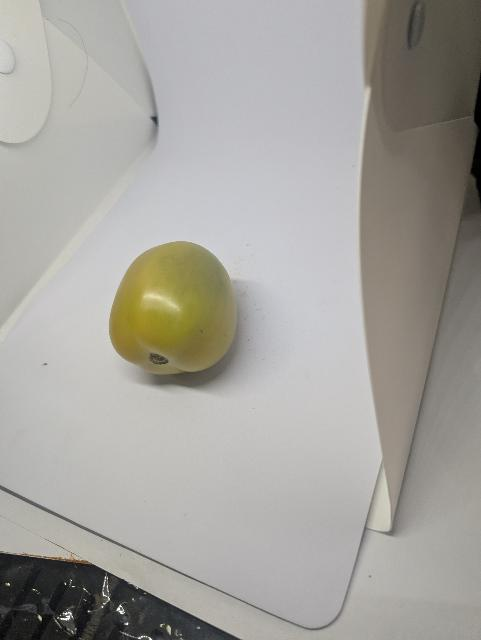breaker: (104, 240, 245, 379)
